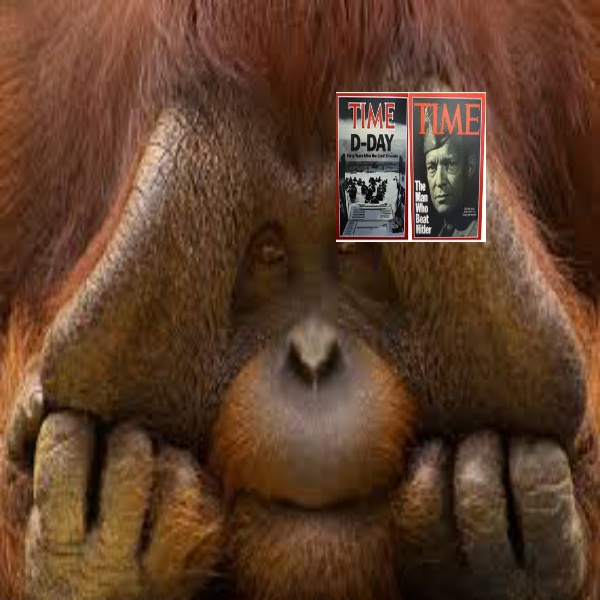time_cover: (329, 83, 411, 239), (427, 82, 499, 248)
